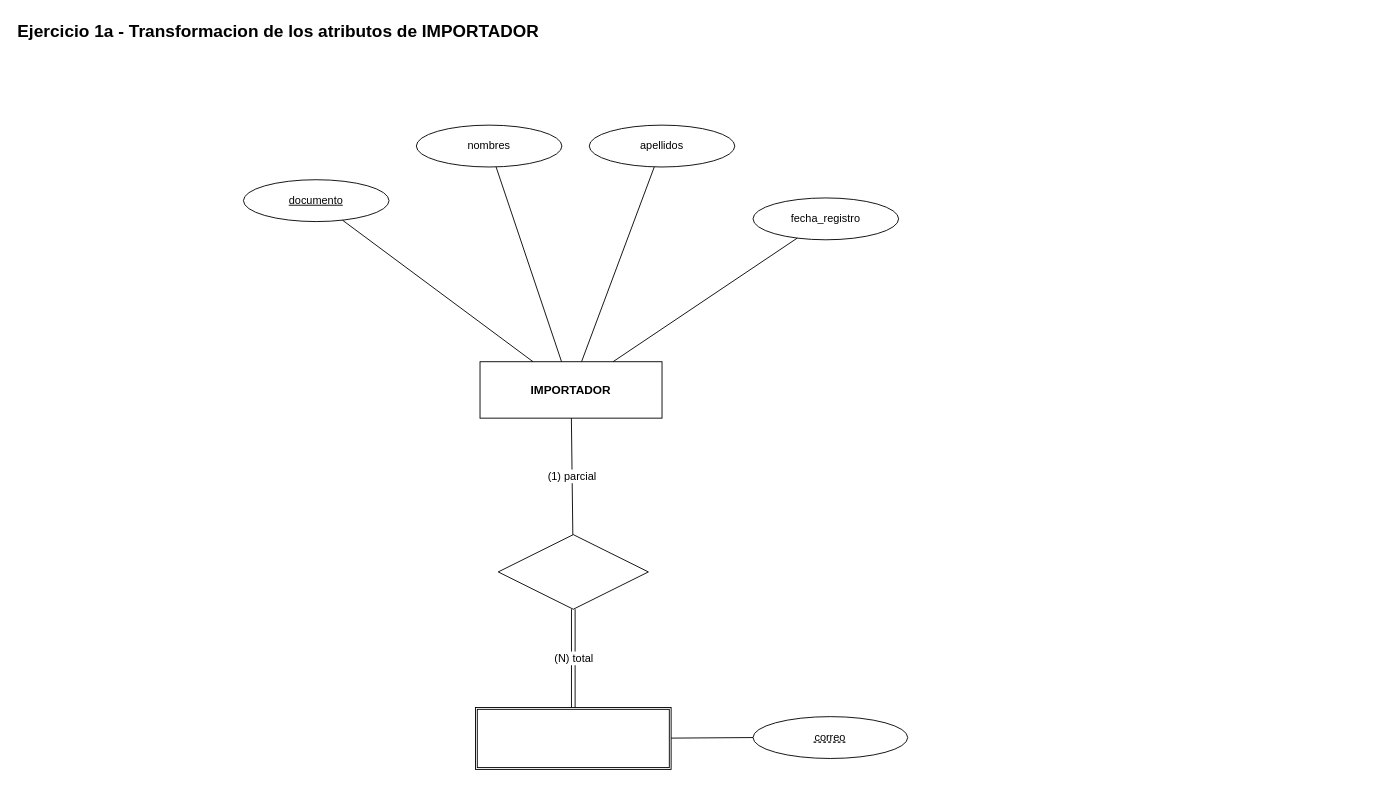
Image size: 1396x785. Some labels were removed from this diagram. Each missing label, with the centre of its shape:
"CORREO_IMPORTADOR" goes at point 573,738.
"TENER" goes at point 572,571.
